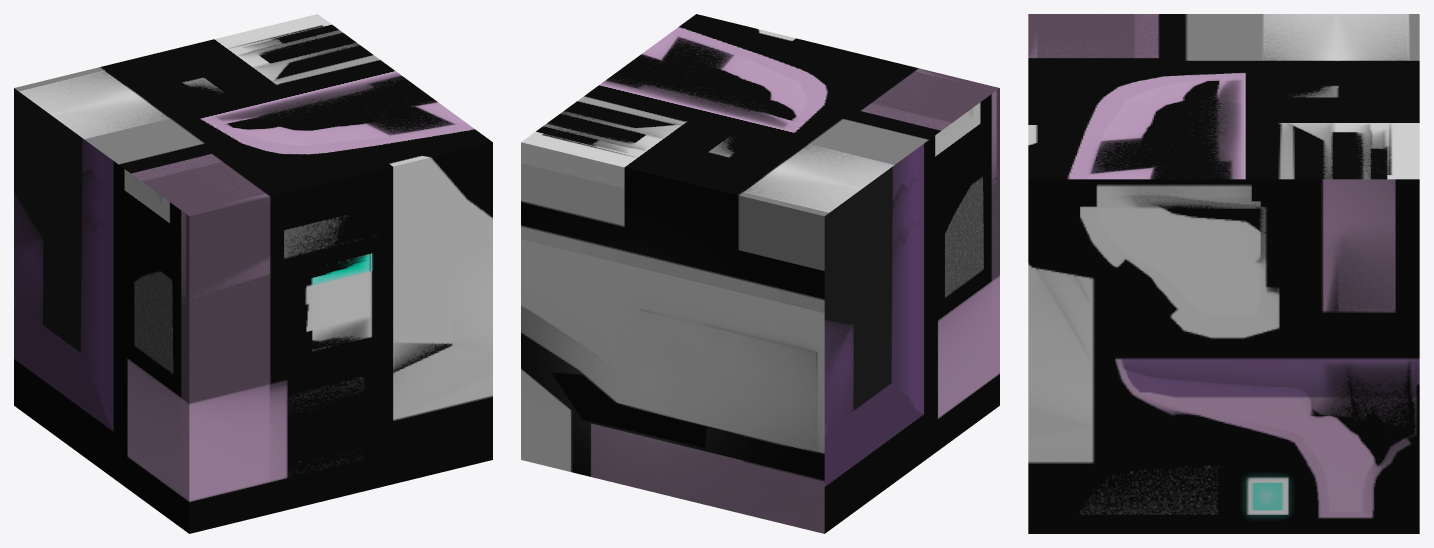
The model's file is lajitong01all.fbx.
3 renders of one model, left to right at view 1: azimuth 30°, elevation 25°; view 2: azimuth 150°, elevation 25°; view 3: azimuth 270°, elevation 25°, orthographic. The views are drawn at different scales.
Visible parts, largest first — view 1: pCube1; view 2: pCube1; view 3: pCube1.
Boxes of the visible parts, x1=… form: pCube1: x1=14, y1=14, x2=492, y2=533; pCube1: x1=521, y1=14, x2=999, y2=533; pCube1: x1=1028, y1=14, x2=1419, y2=533.
Size of the model in its own units: 40 by 40 by 40.
